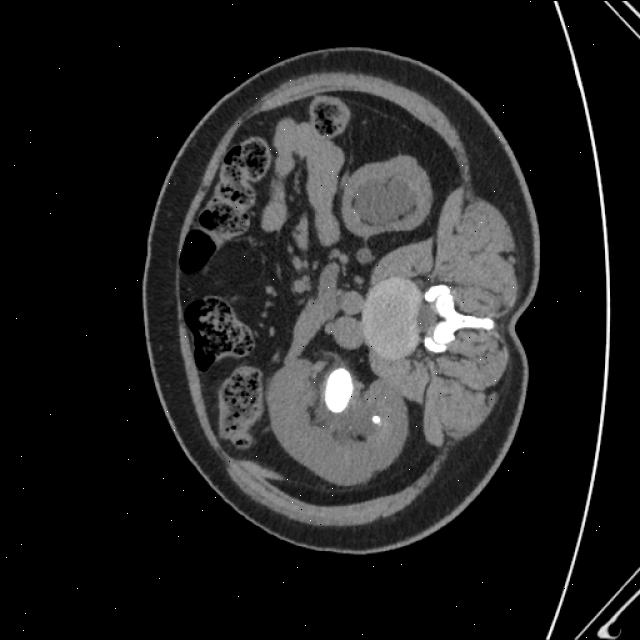kidneystone: (325, 368, 353, 411), (371, 414, 381, 425)
